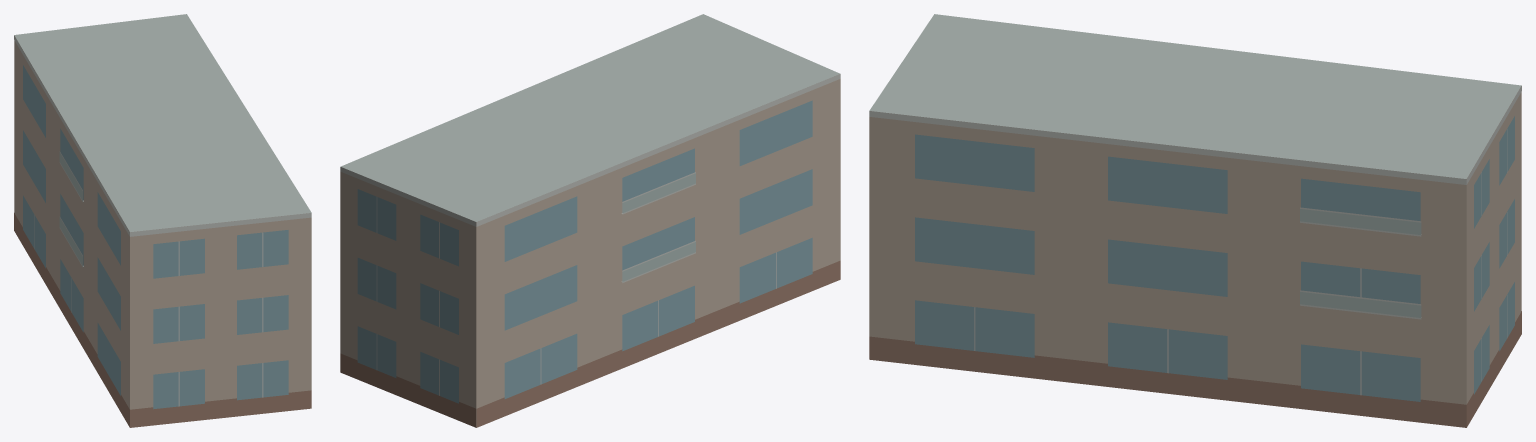
File: survey-upis-32877811.glb
3 renders of one model, left to right at view 1: azimuth 30°, elevation 25°; view 2: azimuth 150°, elevation 25°; view 3: azimuth 270°, elevation 25°, orthographic. The views are drawn at different scales.
Parts seen in each view (by area): view 1: survey-upis-32877811.tmp; view 2: survey-upis-32877811.tmp; view 3: survey-upis-32877811.tmp.
Boxes of the visible parts, bbox=[...] form: survey-upis-32877811.tmp: bbox=[14, 14, 311, 427]; survey-upis-32877811.tmp: bbox=[340, 14, 840, 427]; survey-upis-32877811.tmp: bbox=[869, 14, 1521, 427].
Bounding box in the file's own units: 14.53 × 10.2 × 24.26.
